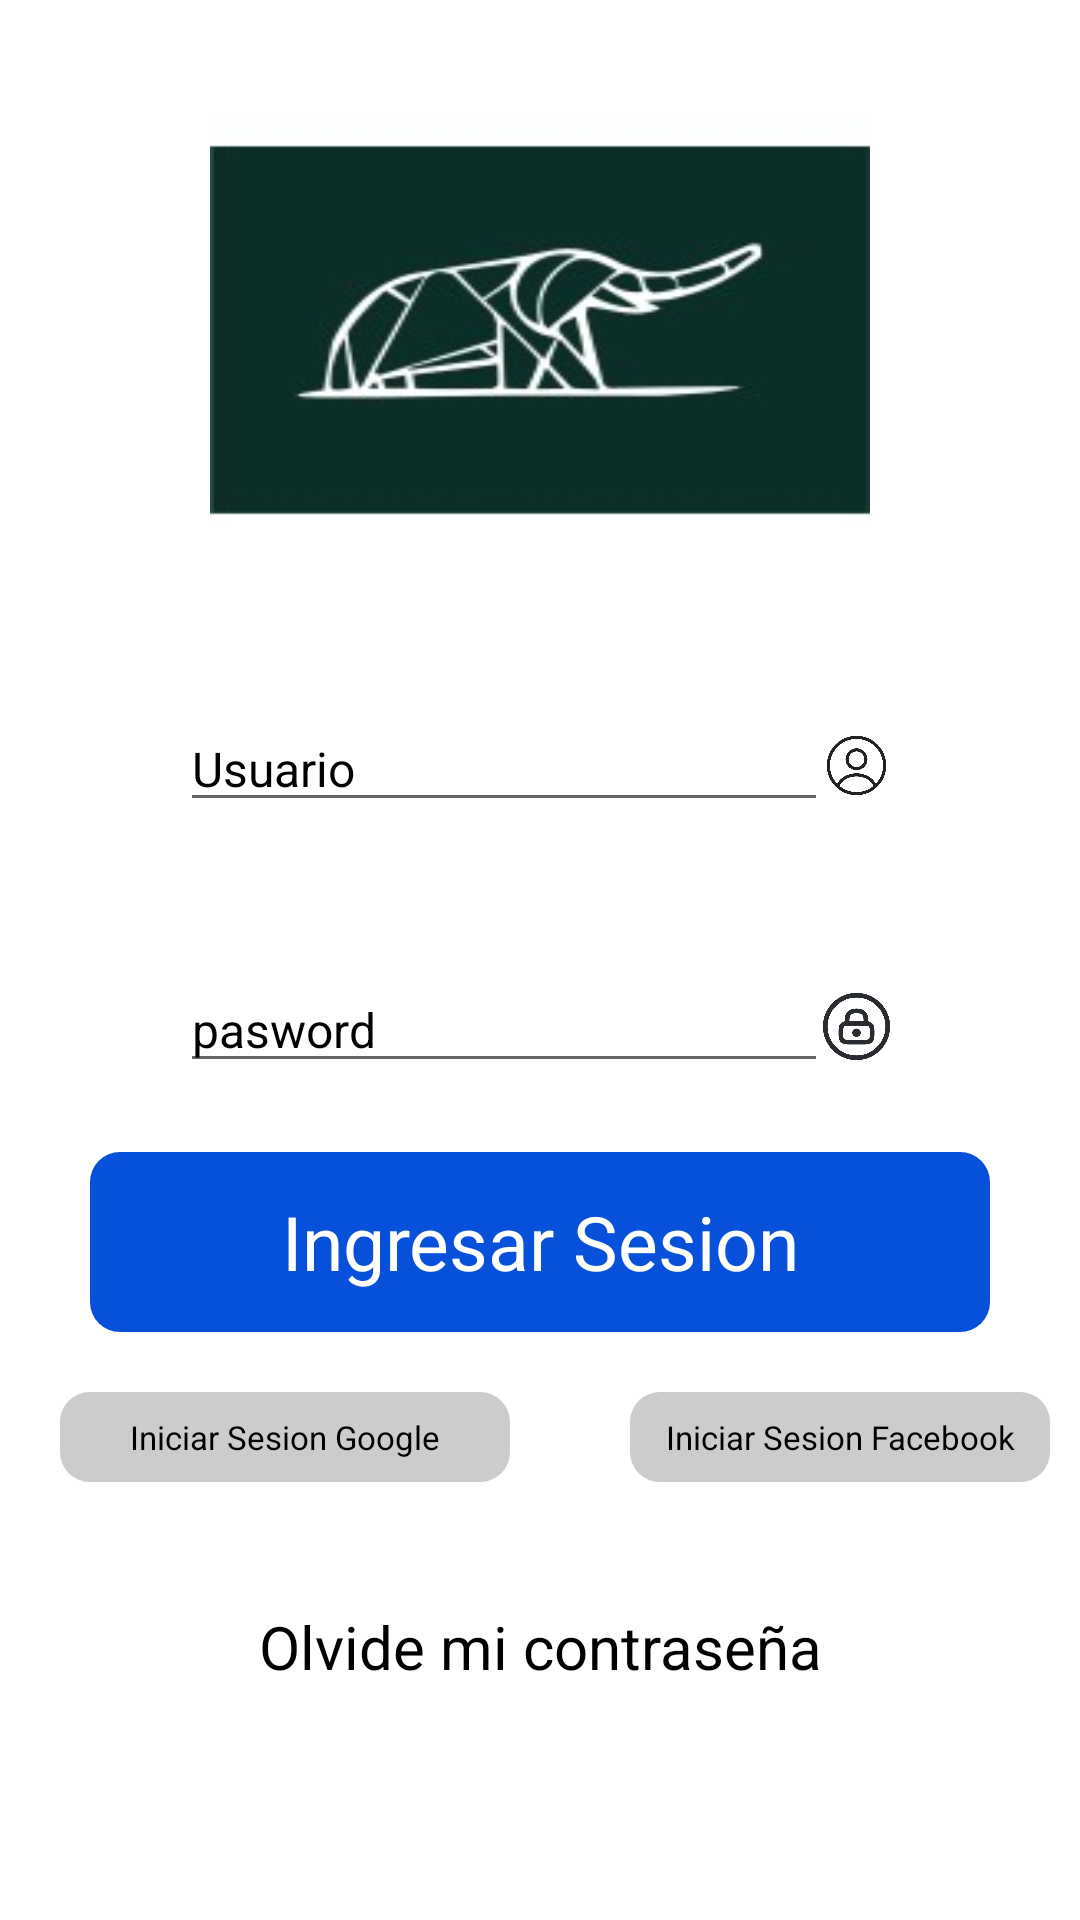

Named icons in this screenshot (1080 × 1920) and their centers, [x,y]:
passwords: [856,1026]
